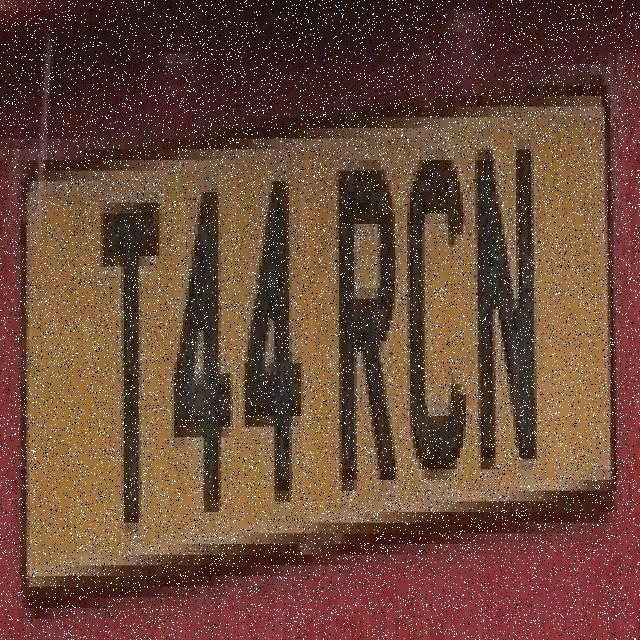LicensePlate: (10, 51, 623, 616)
